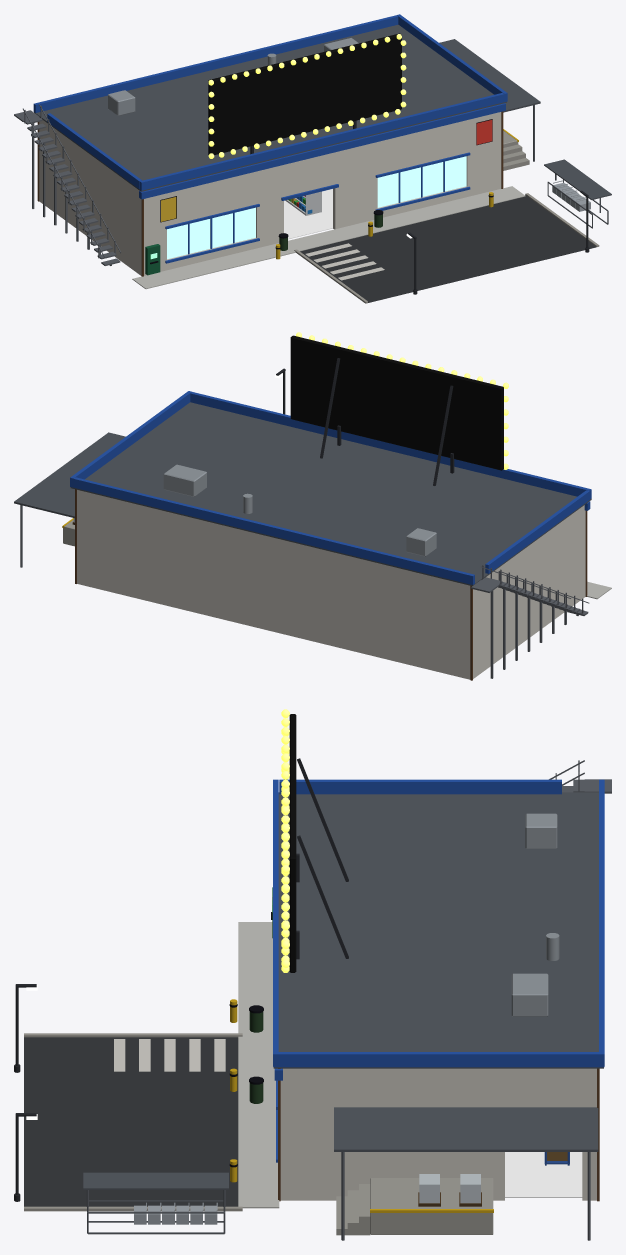
File: tf-shop-p4.glb
The picture shows the model from 3 angles, top to bottom: view 1: azimuth 30°, elevation 25°; view 2: azimuth 150°, elevation 25°; view 3: azimuth 270°, elevation 25°; orthographic projection. The views are drawn at different scales.
Visible parts, largest first — view 1: tf-shop-p4; view 2: tf-shop-p4; view 3: tf-shop-p4.
Boxes of the visible parts, x1,y1,x2,y2 form: tf-shop-p4: (14, 14, 611, 303); tf-shop-p4: (14, 332, 611, 680); tf-shop-p4: (14, 709, 611, 1240).
Bounding box in the file's own units: 34.02 × 13.31 × 26.24.
